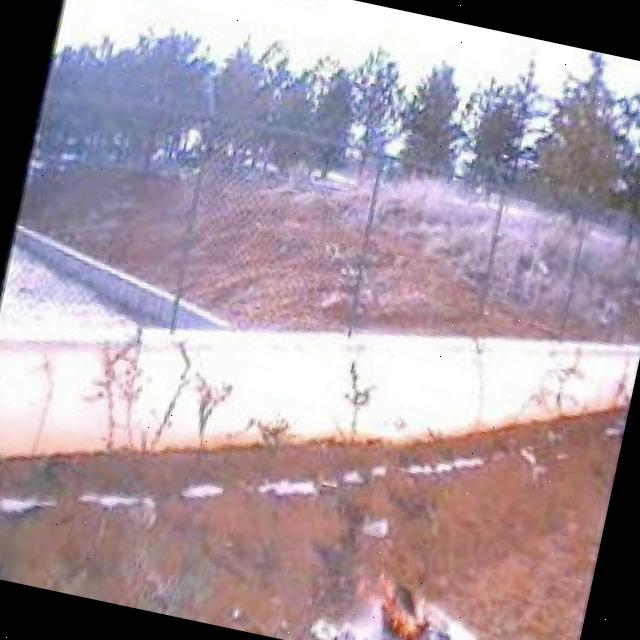fire: (339, 556, 462, 640)
